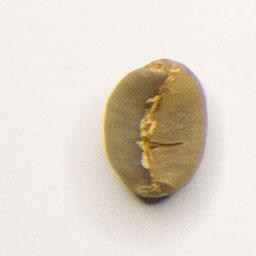premium: (100, 55, 212, 201)
